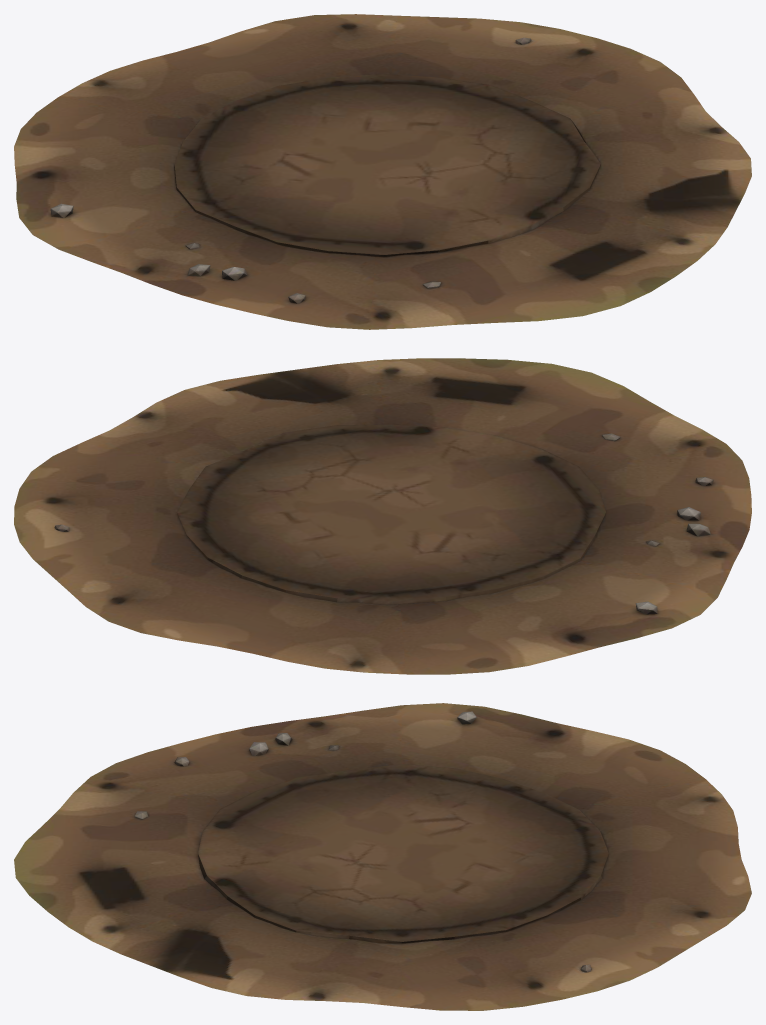
The model's file is shelter_floor.gltf.
3 views of the same model, one above another, from view 1: azimuth 30°, elevation 25°; view 2: azimuth 150°, elevation 25°; view 3: azimuth 270°, elevation 25° (orthographic). The views are drawn at different scales.
Parts seen in each view (by area): view 1: shelter_floor; view 2: shelter_floor; view 3: shelter_floor.
Boxes of the visible parts, x1=… form: shelter_floor: x1=14, y1=14, x2=751, y2=329; shelter_floor: x1=14, y1=358, x2=751, y2=674; shelter_floor: x1=14, y1=703, x2=751, y2=1010.
Size of the model in its own units: 4.28 by 0.0793 by 4.34.
Materials: 3 (3 with a texture image).
